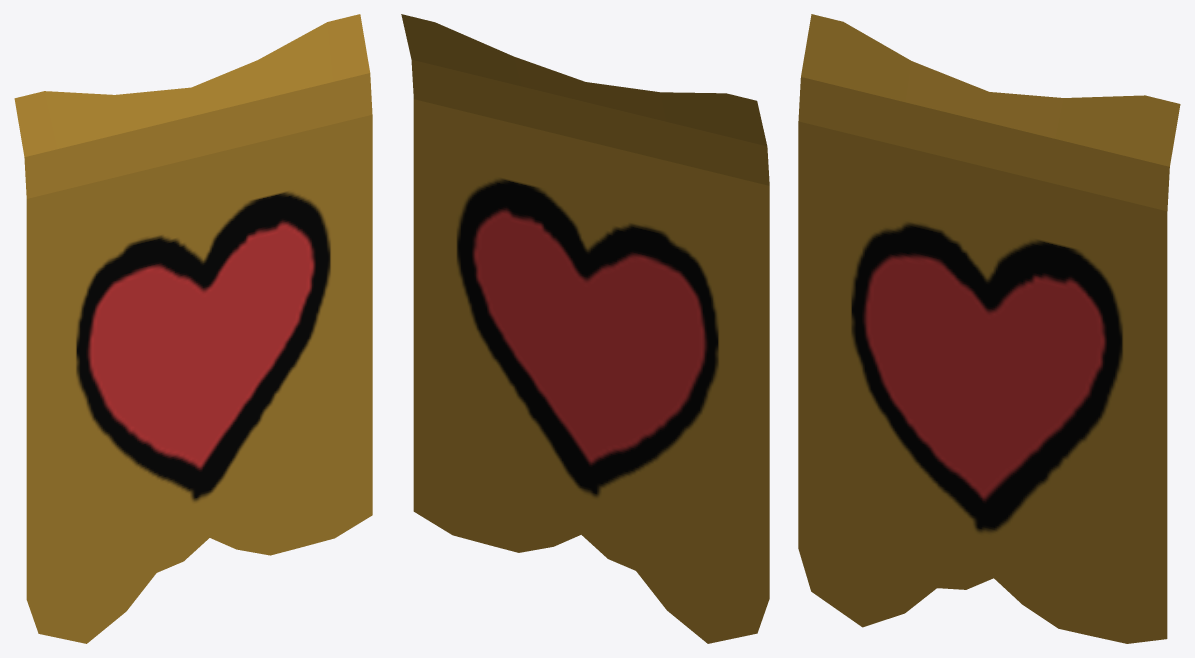
Rendered from Flag_Co.fbx.
3 renders of one model, left to right at view 1: azimuth 30°, elevation 25°; view 2: azimuth 150°, elevation 25°; view 3: azimuth 330°, elevation 25°, orthographic. The views are drawn at different scales.
Parts seen in each view (by area): view 1: Flag_Co; view 2: Flag_Co; view 3: Flag_Co.
Boxes of the visible parts, <box> form: Flag_Co: <box>14,14,372,643</box>; Flag_Co: <box>401,14,769,643</box>; Flag_Co: <box>798,14,1180,643</box>.
Bounding box in the file's own units: 0.4357 × 0.0267 × 0.6638.
Materials: 1 (1 with a texture image).
